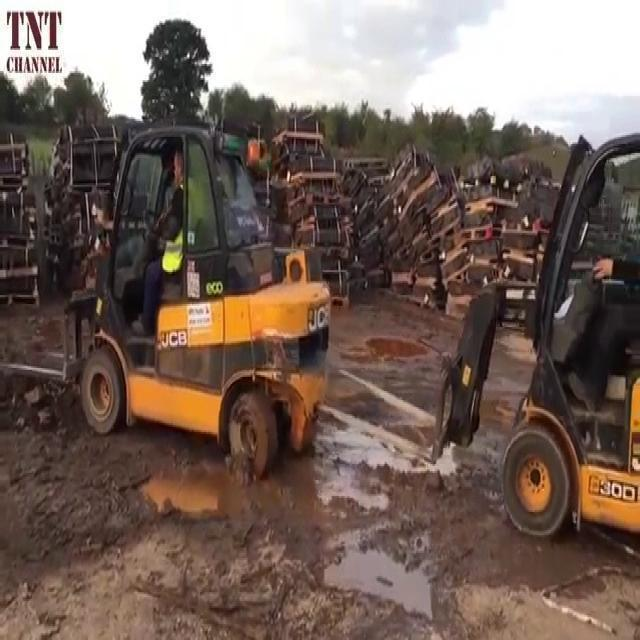forklift: (60, 114, 334, 486)
